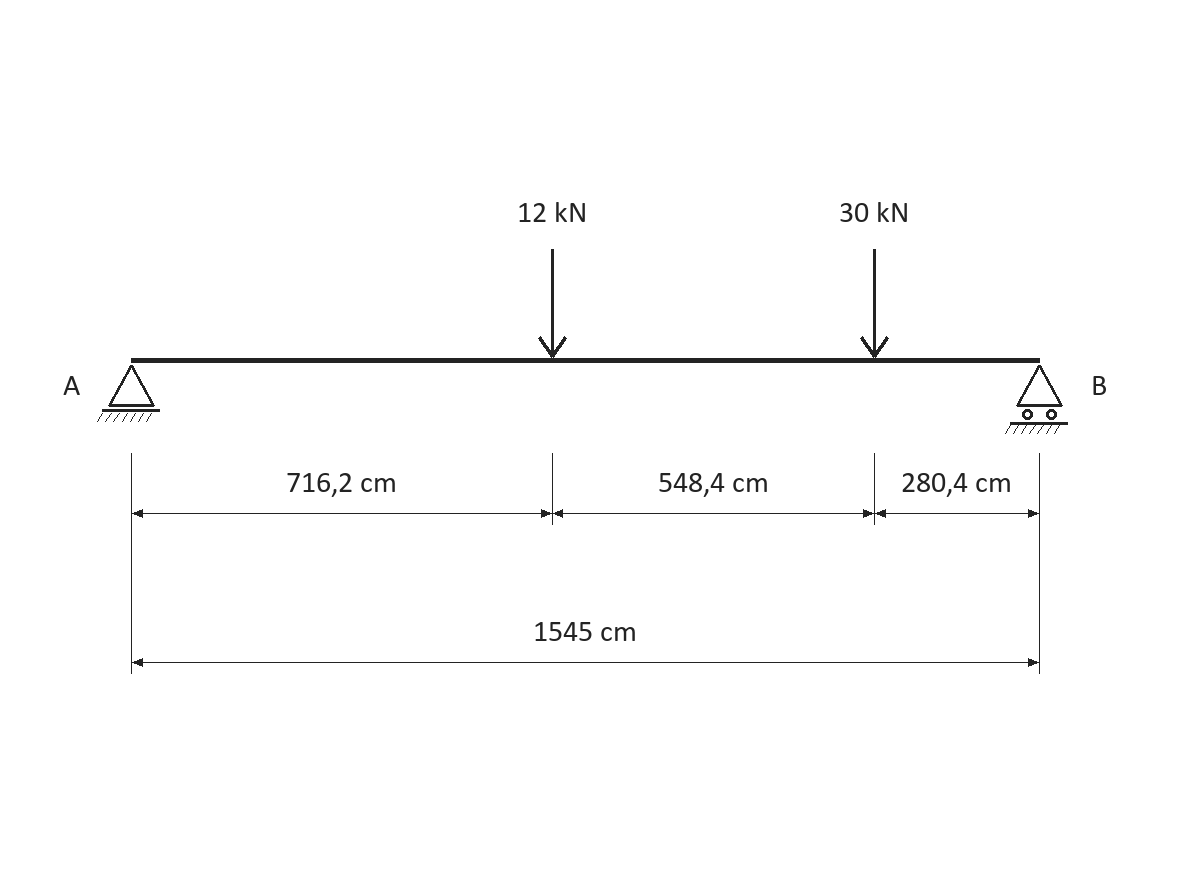pin_support: (97, 365, 160, 422)
point_load: (538, 249, 567, 358), (860, 249, 889, 358)
roller_support: (1005, 365, 1068, 434)
